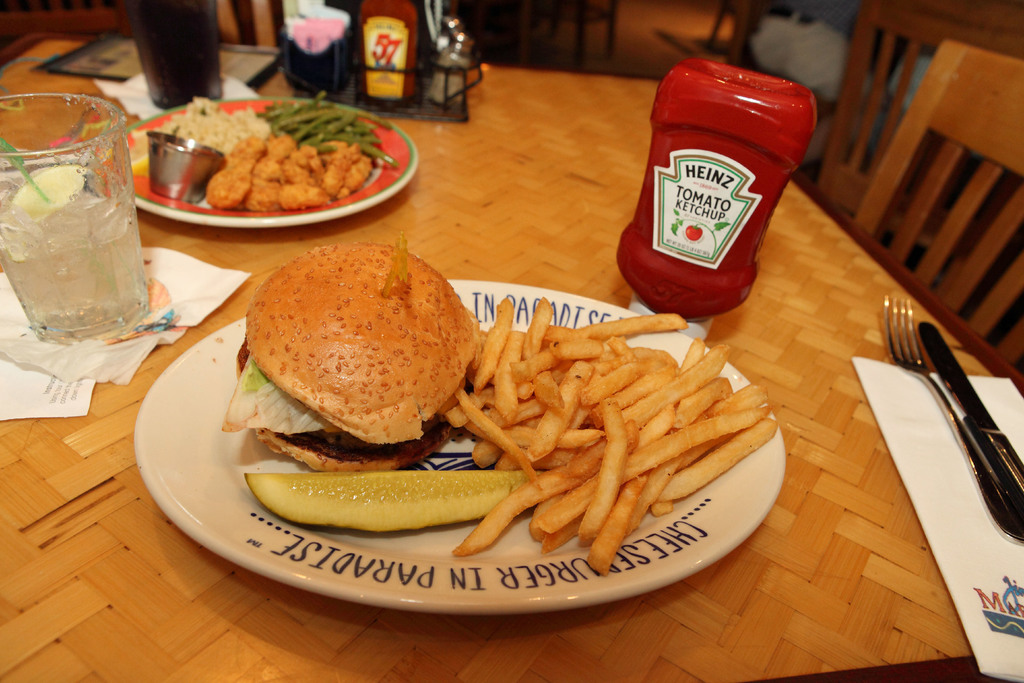French fries: (423, 279, 759, 562)
